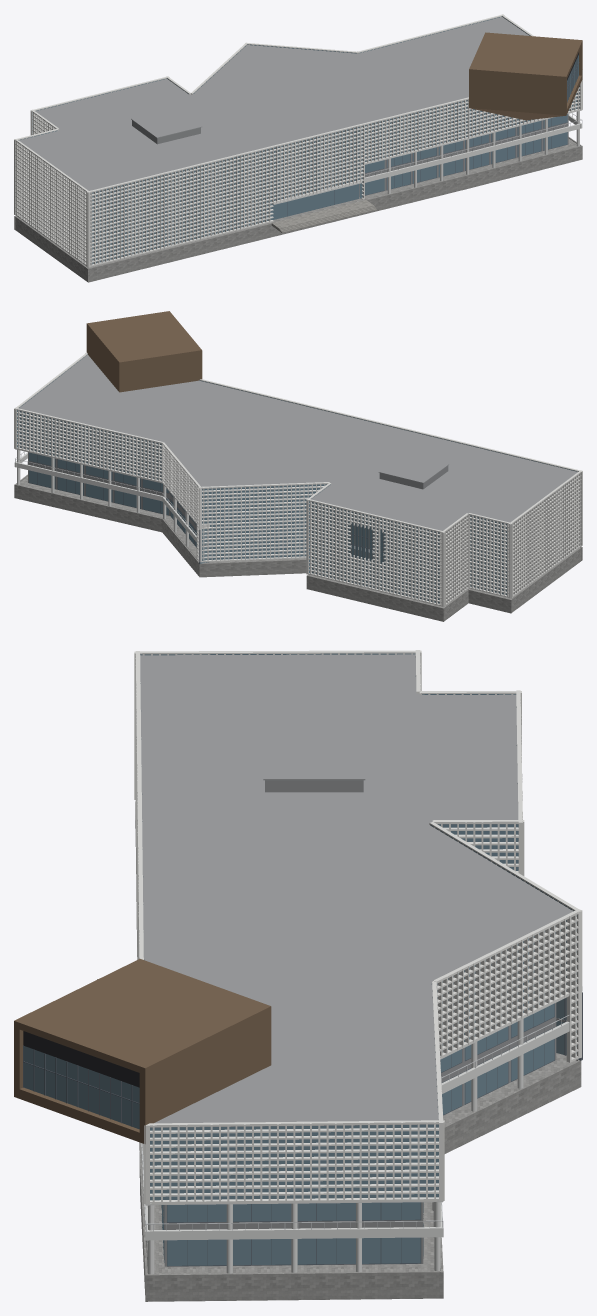
The picture shows the model from 3 angles, top to bottom: view 1: azimuth 30°, elevation 25°; view 2: azimuth 150°, elevation 25°; view 3: azimuth 270°, elevation 25°; orthographic projection. The views are drawn at different scales.
Parts seen in each view (by area): view 1: library__roof, library__waffle, library__glass, library__stoneBase, library__bronze, library__core, library__whiteBand, library__entranceSteps, library__frame; view 2: library__roof, library__waffle, library__glass, library__stoneBase, library__bronze, library__core, library__whiteBand, library__frame; view 3: library__roof, library__waffle, library__glass, library__bronze, library__stoneBase, library__whiteBand, library__core, library__frame, library__shadowBand, library__railing.
Boxes of the visible parts, box(x1,y1,x2,y2) form: library__roof: box(19, 17, 529, 190); library__waffle: box(14, 14, 582, 267); library__glass: box(18, 16, 579, 264); library__stoneBase: box(14, 137, 582, 282); library__bronze: box(469, 32, 582, 120); library__core: box(93, 101, 577, 261); library__whiteBand: box(272, 105, 582, 204); library__entranceSteps: box(271, 200, 376, 233); library__frame: box(283, 57, 579, 217); library__roof: box(19, 355, 577, 531); library__waffle: box(14, 352, 582, 606); library__glass: box(17, 354, 578, 603); library__stoneBase: box(14, 474, 582, 621); library__bronze: box(86, 311, 202, 392); library__core: box(19, 420, 498, 600); library__whiteBand: box(14, 443, 209, 546); library__frame: box(29, 455, 384, 563); library__roof: box(140, 654, 573, 1127); library__waffle: box(134, 650, 582, 1204); library__glass: box(23, 653, 576, 1265); library__bronze: box(14, 959, 271, 1143); library__stoneBase: box(135, 801, 581, 1301); library__whiteBand: box(141, 979, 582, 1274); library__core: box(161, 780, 571, 1266); library__frame: box(23, 992, 582, 1266); library__shadowBand: box(23, 1031, 139, 1087); library__railing: box(142, 1015, 569, 1231).
Size of the model in its own units: 137 by 31.3 by 69.1.
Materials: 12 (2 with a texture image).
